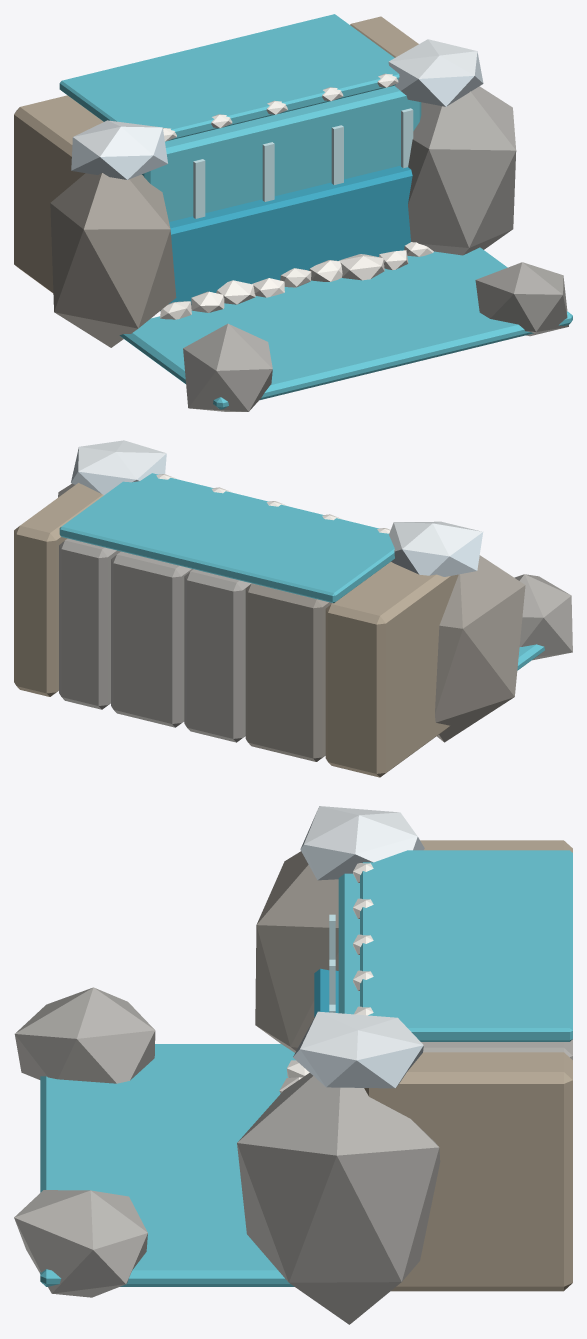
File: waterfall_step.glb
3 renders of one model, top to bottom at view 1: azimuth 30°, elevation 25°; view 2: azimuth 150°, elevation 25°; view 3: azimuth 270°, elevation 25°, orthographic. The views are drawn at different scales.
Parts seen in each view (by area): view 1: waterfall_step; view 2: waterfall_step; view 3: waterfall_step.
Part boxes in pixels (<box>): waterfall_step: <box>14,14,572,411</box>; waterfall_step: <box>14,440,572,777</box>; waterfall_step: <box>14,806,572,1324</box>.
Size of the model in its own units: 2.32 by 1.09 by 1.84.
